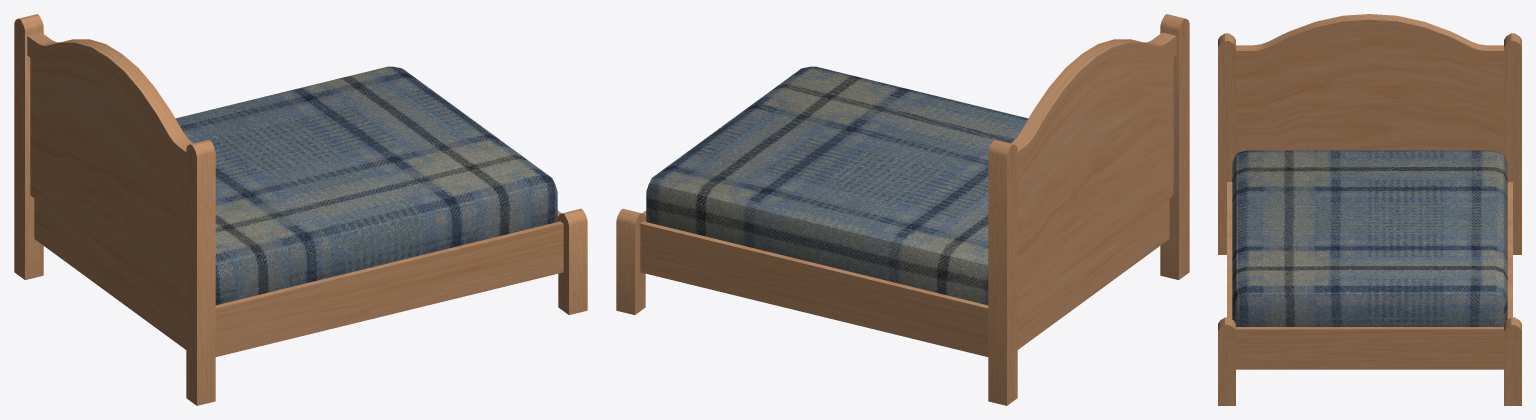
The model's file is camaDeCasal.fbx.
The picture shows the model from 3 angles, left to right: view 1: azimuth 30°, elevation 25°; view 2: azimuth 150°, elevation 25°; view 3: azimuth 270°, elevation 25°; orthographic projection. The views are drawn at different scales.
Parts seen in each view (by area): view 1: camaDeCasal; view 2: camaDeCasal; view 3: camaDeCasal.
Part boxes in pixels (<box>): camaDeCasal: <box>14,14,587,405</box>; camaDeCasal: <box>616,14,1189,405</box>; camaDeCasal: <box>1218,14,1521,405</box>.
Bounding box in the file's own units: 210 × 145 × 170.
